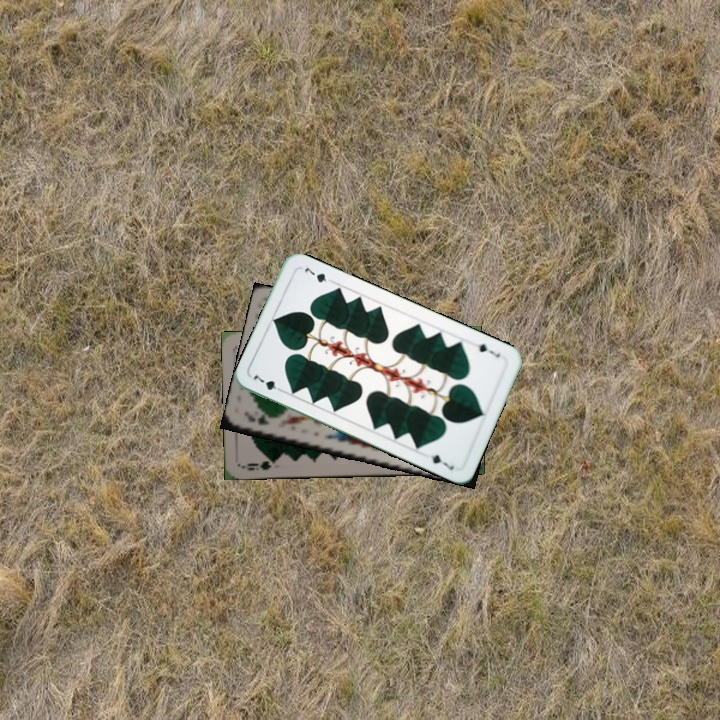G7: (249, 371, 287, 395), (470, 339, 503, 360)
G9: (239, 455, 279, 473)
GK: (245, 411, 271, 428)
